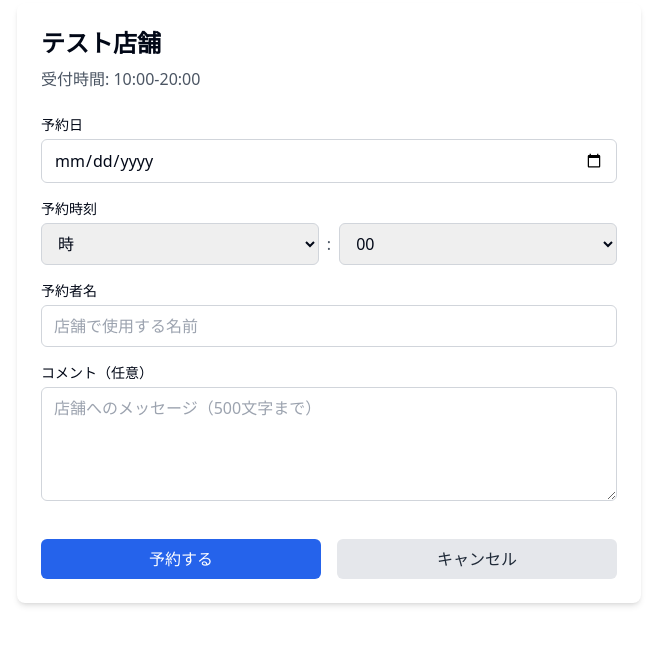
Test: ReservationForm › should display validation error for empty reservationDate
Select "14" in the dropdown named "時" at (180, 244), box [41,223,319,265]
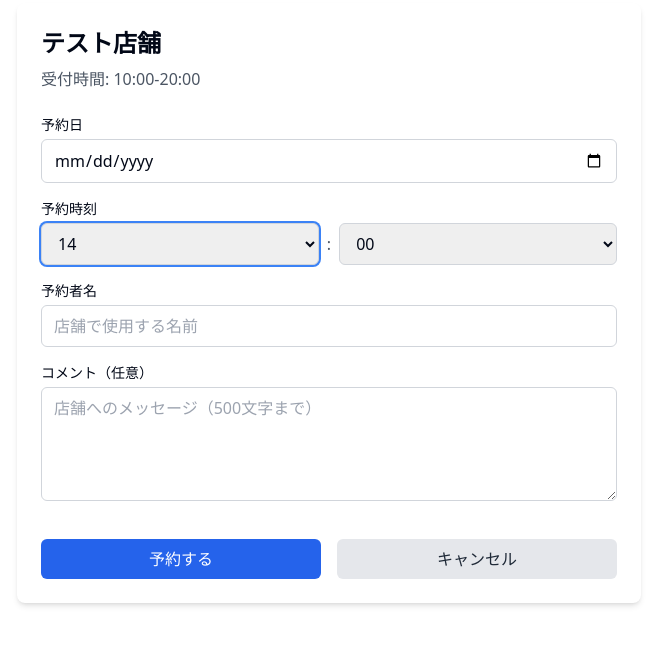
Select "30" in the dropdown named "分" at (478, 244), box [339,223,617,265]
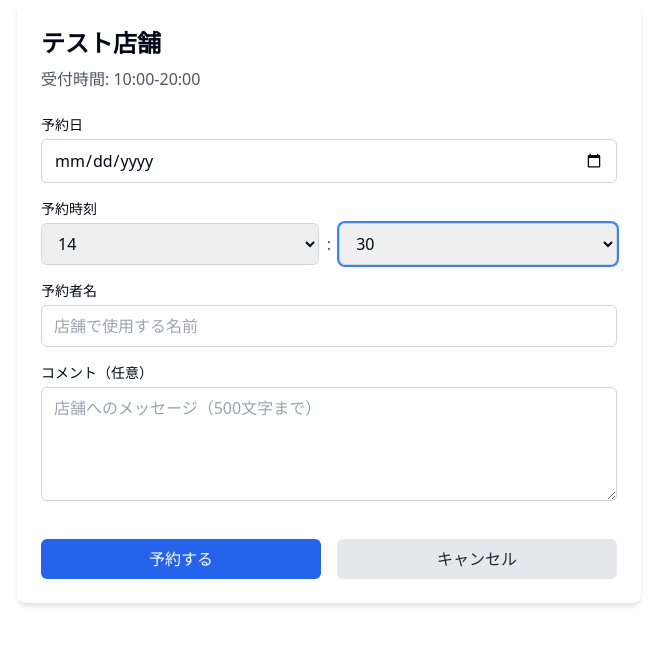
Type "テストユーザー" into the field labelled "予約者名".
click(329, 326); type("テストユーザー")  # box [41,305,617,347]
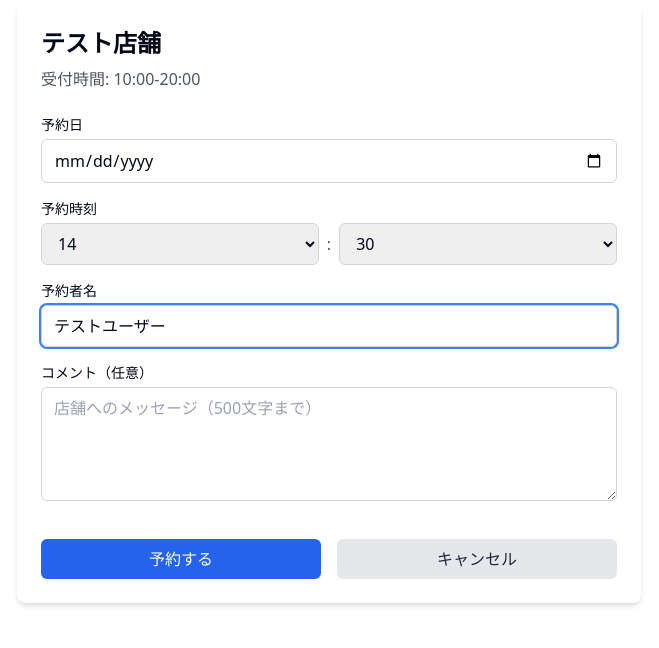
Click the button "予約する".
click(181, 559)  # box [41,539,321,579]
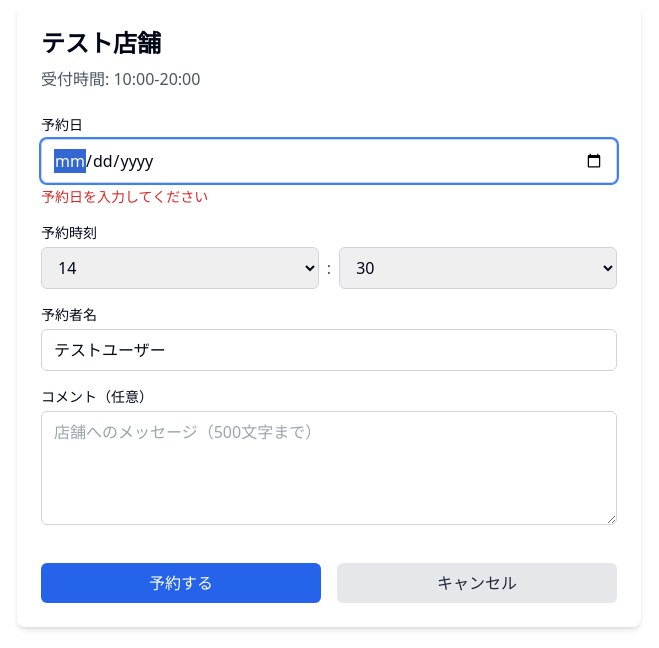
Result: the text "予約日を入力してください" is shown at [41,187,208,206]
